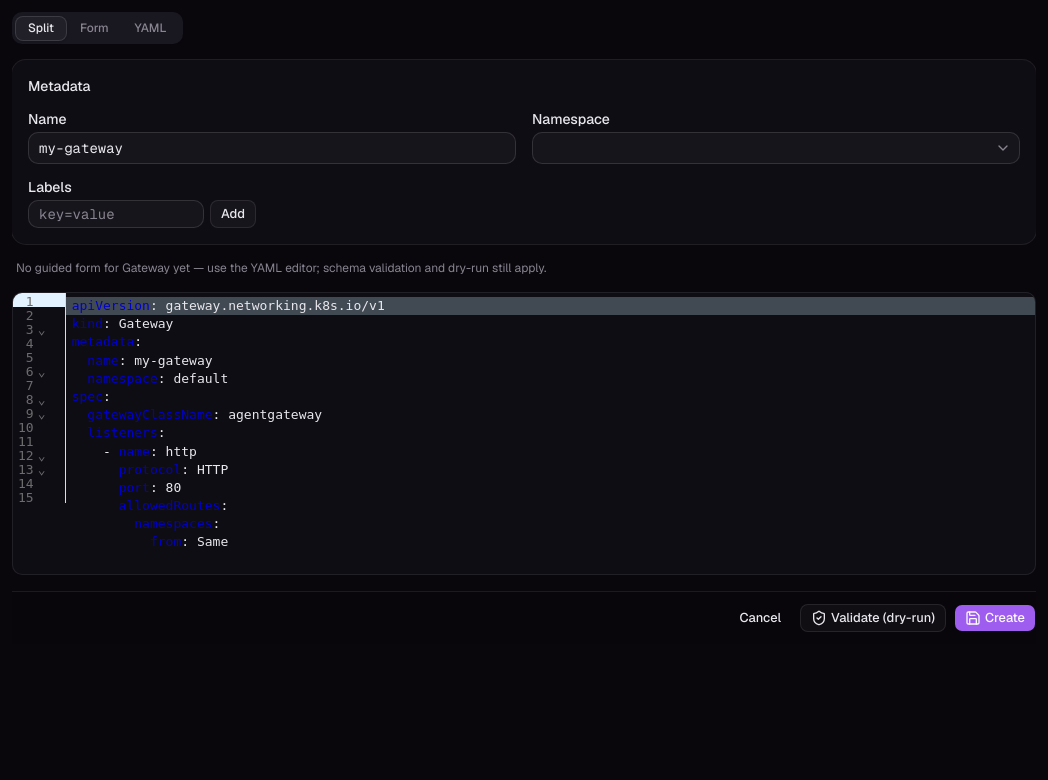
Test: ResourceEditor dry-run › shows API server rejection with field causes on 422
Click the button "Validate (dry-run)" at (873, 618), box [800, 604, 946, 632]
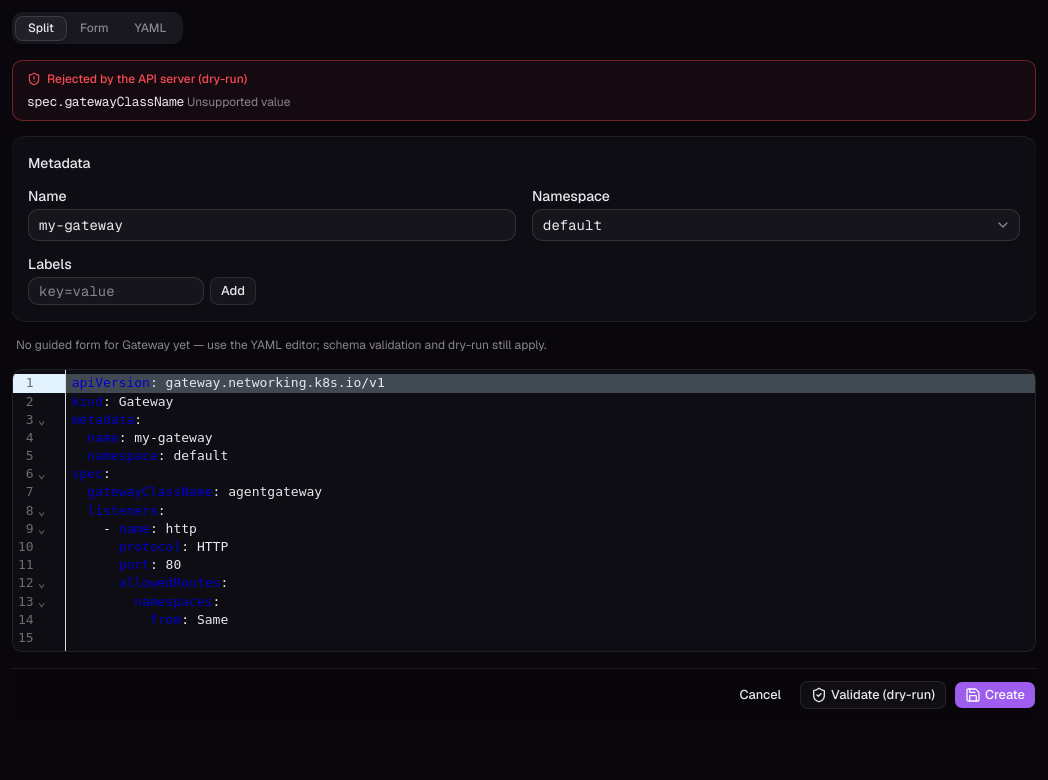
Expected: the text "Rejected by the API server (dry-run)" is shown, [27, 71, 247, 87]
Expected: the text "spec.gatewayClassName" is shown, [27, 93, 184, 110]
Expected: the list item "spec.gatewayClassName Unsupported value" is shown, [27, 93, 290, 110]
